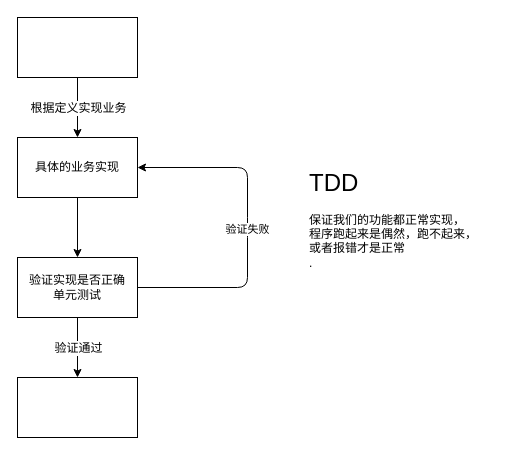
The diagram is 515 pixels wide and 455 high, and some of its shapes have lost their labels. The shapes that lost their labels are listed below. From the top down, each one's centre as x and y in pixels, then its label:
At (x=77, y=47): "定义业务".
At (x=77, y=407): "被其他模块集成".
